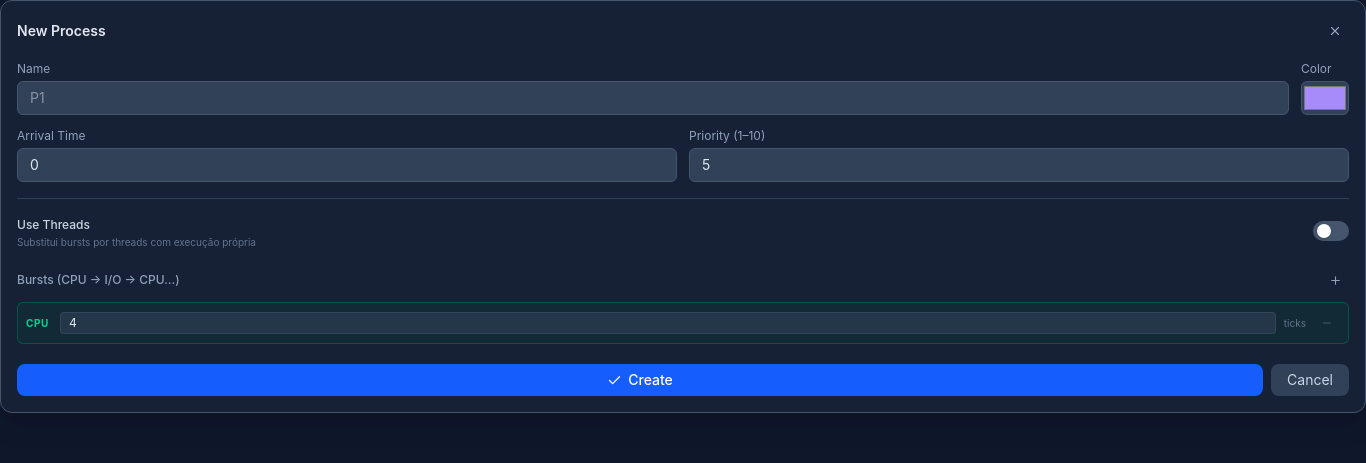
Test: ProcessForm › shows validation error when name is empty
Clear the field named "Process name" at (653, 98), box top-left (17, 81), bottom-right (1289, 115)
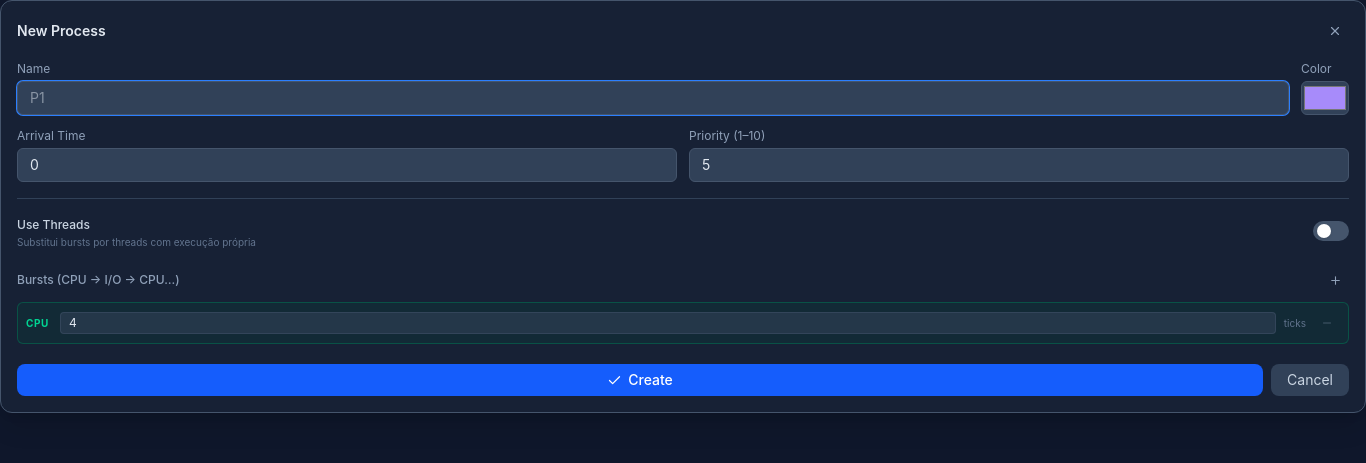
Click the button "Create" at (640, 380), box top-left (17, 364), bottom-right (1263, 396)
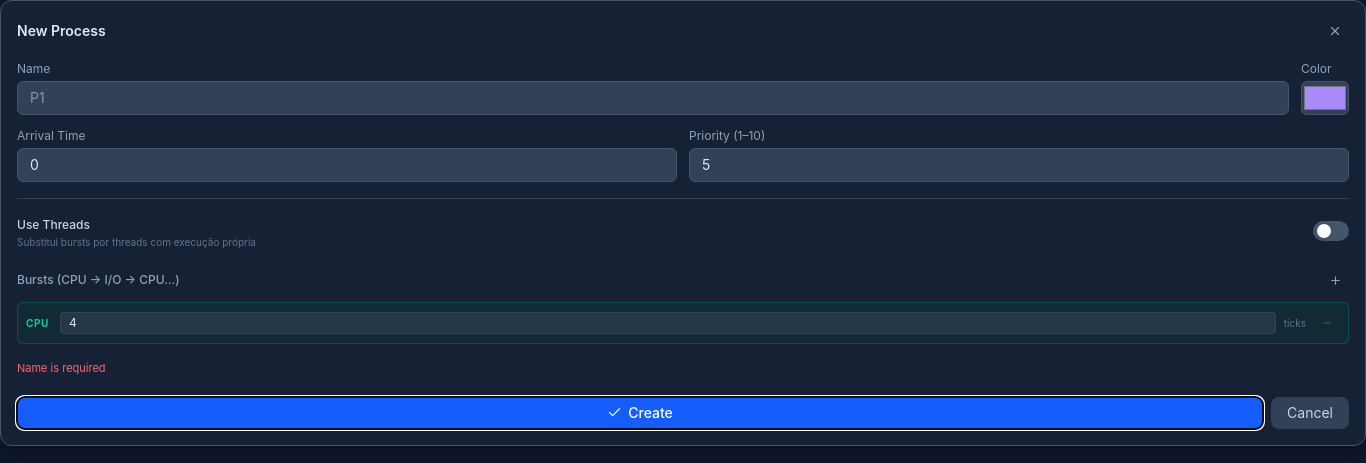
Now the list item "Name is required" is shown, box top-left (17, 361), bottom-right (106, 375)
